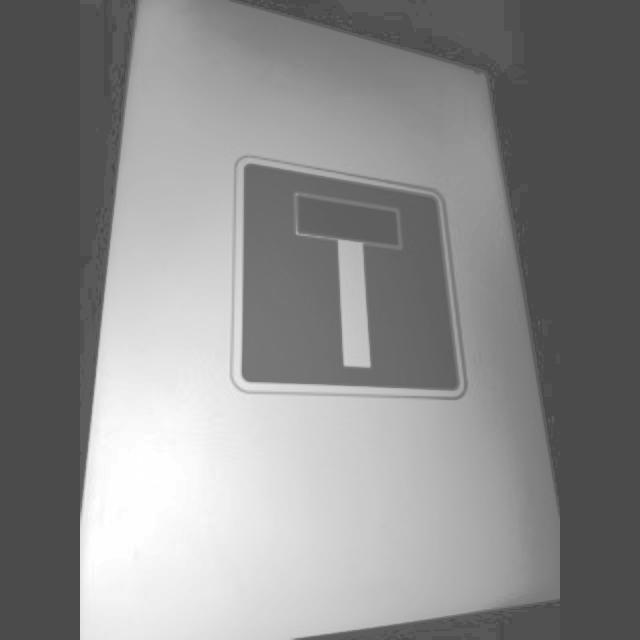DEAD END: (230, 154, 470, 403)
